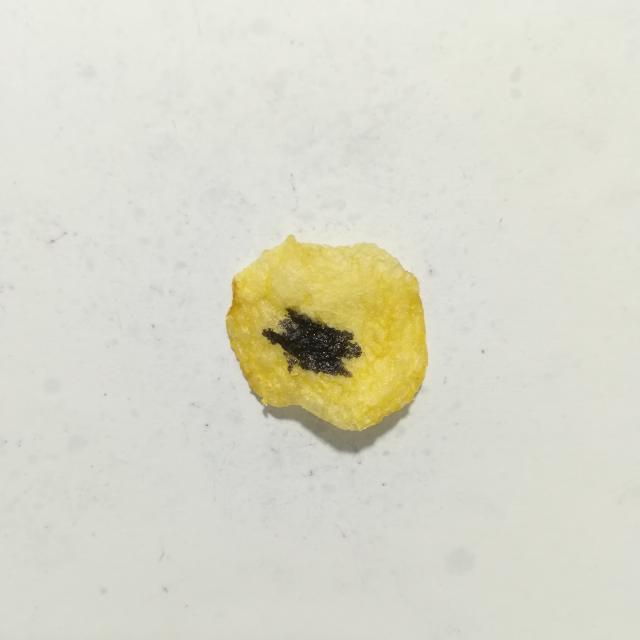chip: (226, 235, 428, 431)
damaged: (262, 308, 362, 377)
